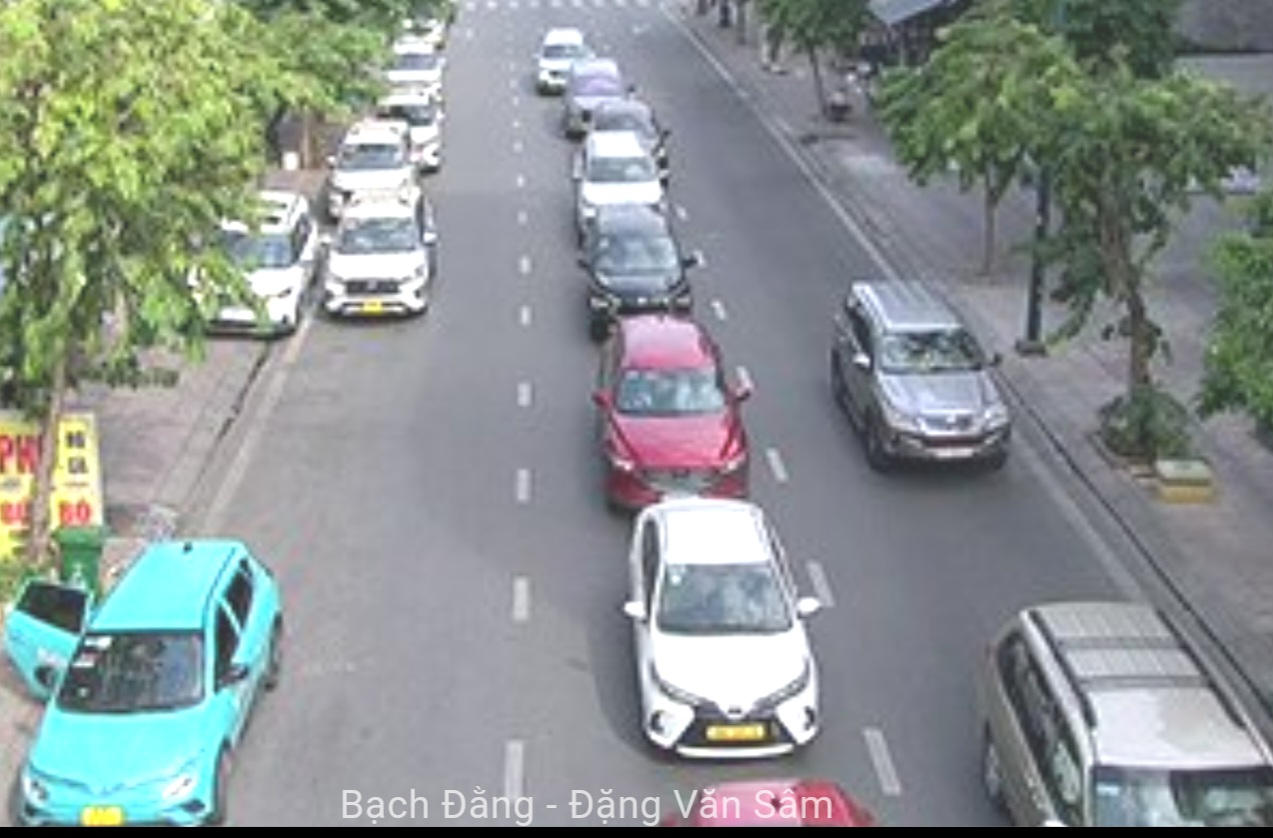car: (20, 544, 284, 838), (976, 600, 1273, 838), (623, 505, 823, 761), (835, 276, 1015, 471), (598, 320, 748, 498), (585, 212, 692, 324), (332, 203, 436, 316), (575, 136, 665, 218), (330, 117, 416, 199), (566, 56, 628, 129), (379, 39, 442, 93)
